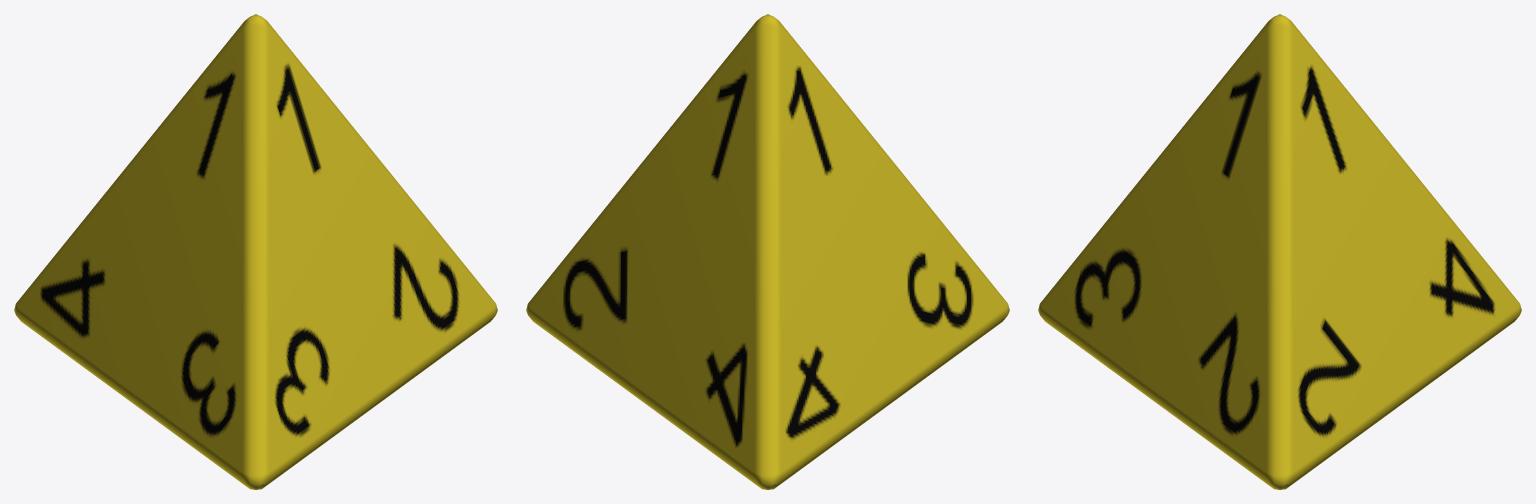
3 views of the same model, side by side, from view 1: azimuth 30°, elevation 25°; view 2: azimuth 150°, elevation 25°; view 3: azimuth 270°, elevation 25° (orthographic).
Parts seen in each view (by area): view 1: node_id6; view 2: node_id6; view 3: node_id6.
Boxes of the visible parts, x1=… form: node_id6: x1=14, y1=14, x2=497, y2=489; node_id6: x1=526, y1=14, x2=1009, y2=489; node_id6: x1=1038, y1=14, x2=1521, y2=489.
Size of the model in its own units: 0.512 by 0.486 by 0.5875.
1 material, 1 textured.
